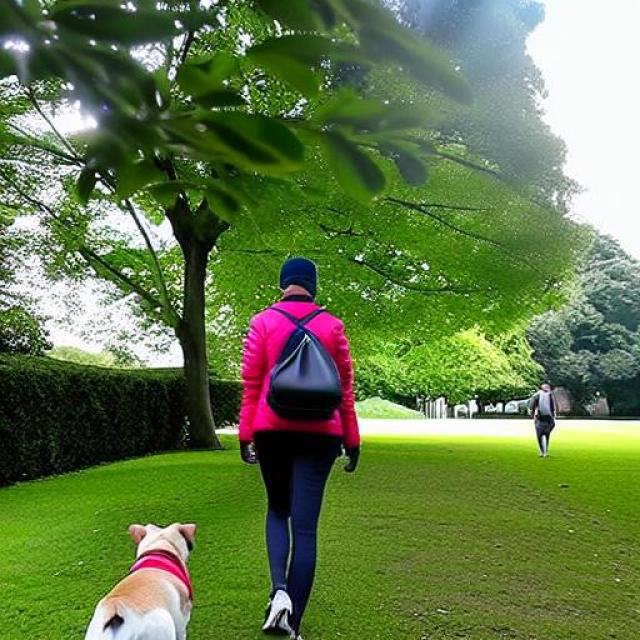Unleashed_Dog: (83, 427, 328, 640)
